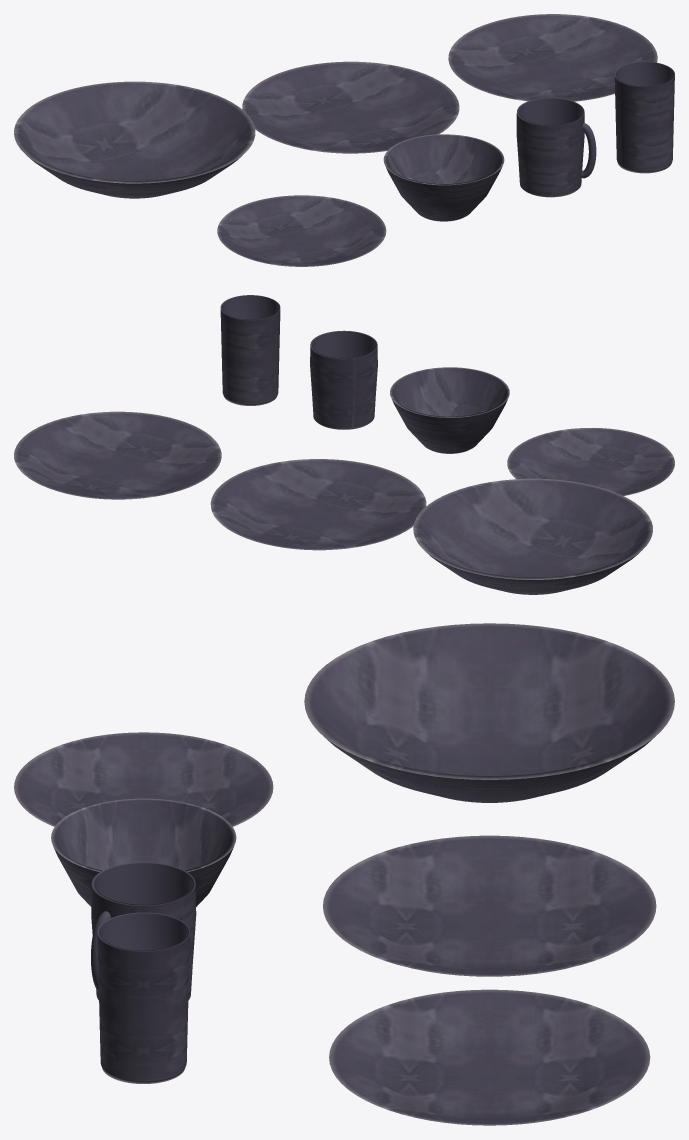
File: COL-01.glb
3 renders of one model, top to bottom at view 1: azimuth 30°, elevation 25°; view 2: azimuth 150°, elevation 25°; view 3: azimuth 270°, elevation 25°, orthographic. The views are drawn at different scales.
Size of the model in its own units: 0.88 by 0.12 by 0.535.
Materials: 15 (12 with a texture image).
